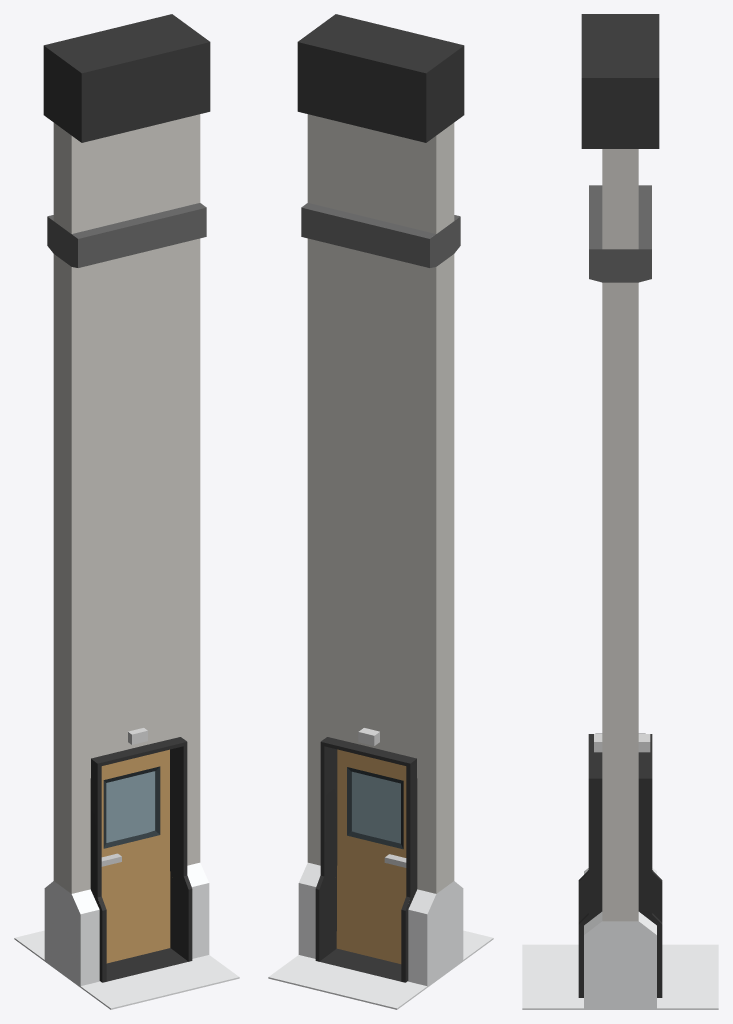
File: ManDoor.fbx
3 views of the same model, side by side, from view 1: azimuth 30°, elevation 25°; view 2: azimuth 150°, elevation 25°; view 3: azimuth 270°, elevation 25° (orthographic).
Visible parts, largest first — view 1: ManDoor, Door, DoorFrame; view 2: ManDoor, Door, DoorFrame; view 3: ManDoor, DoorFrame.
Part boxes in pixels (x1,y1,x2,y2): ManDoor: (14, 14, 239, 1009); Door: (101, 749, 170, 963); DoorFrame: (90, 737, 192, 982); ManDoor: (268, 14, 493, 1009); Door: (336, 749, 406, 963); DoorFrame: (315, 737, 417, 982); ManDoor: (522, 14, 718, 1009); DoorFrame: (578, 733, 662, 997).
Size of the model in its own units: 1.32 by 1.72 by 9.
